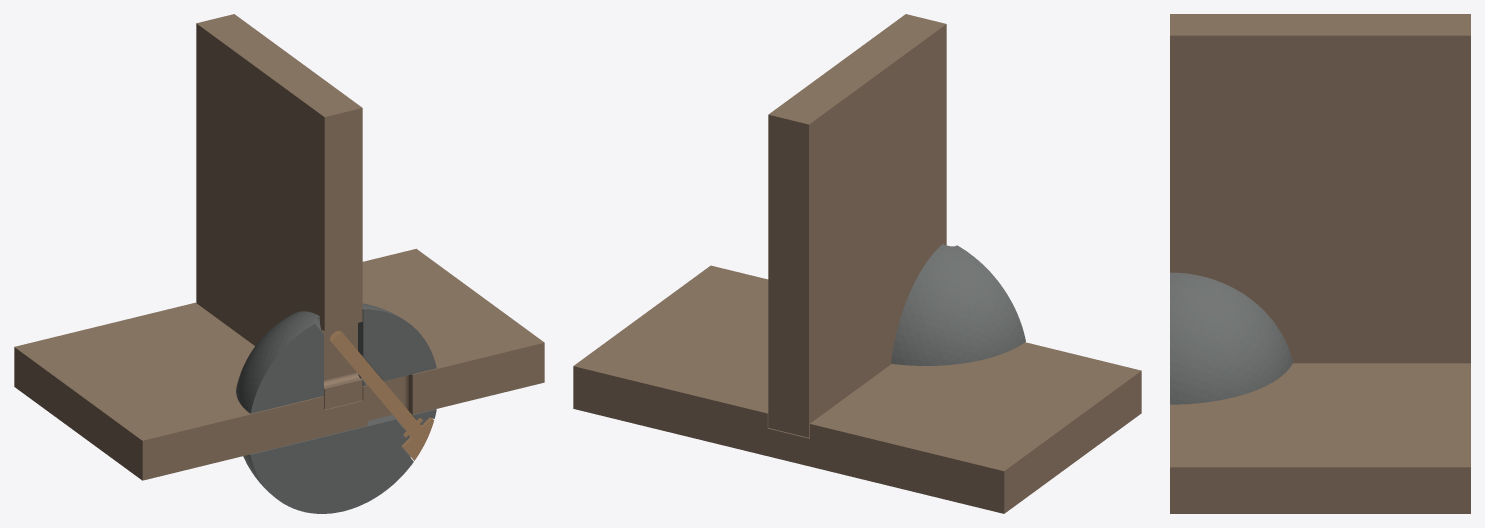
File: section.glb
3 views of the same model, side by side, from view 1: azimuth 30°, elevation 25°; view 2: azimuth 150°, elevation 25°; view 3: azimuth 270°, elevation 25° (orthographic). The views are drawn at different scales.
Visible parts, largest first — view 1: shelf, divider, body, key; view 2: shelf, divider, body; view 3: divider, shelf, body.
Part boxes in pixels (x1,y1,x2,y2): shelf: (14,248,544,480); divider: (196,14,362,409); body: (236,303,436,513); key: (330,330,433,460); shelf: (573,265,1141,513); divider: (768,14,946,437); body: (891,244,1025,365); divider: (1170,14,1470,363); shelf: (1170,363,1470,513); body: (1170,272,1293,404).
Bounding box in the file's own units: 0.19 × 0.18 × 0.105.
